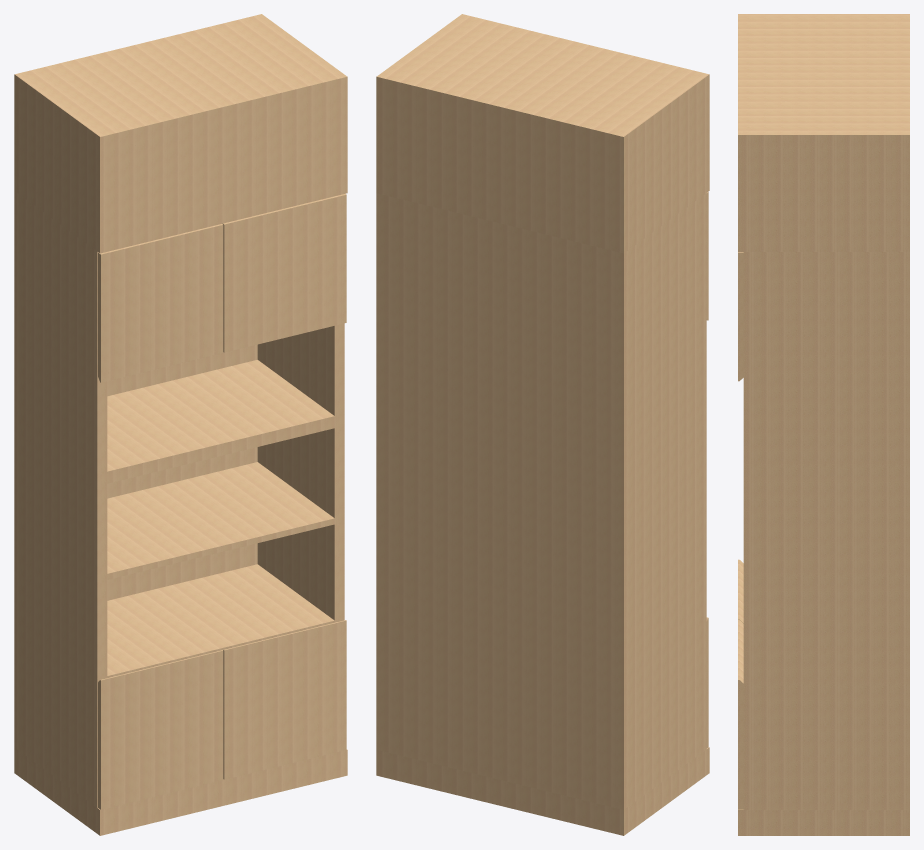
The picture shows the model from 3 angles, left to right: view 1: azimuth 30°, elevation 25°; view 2: azimuth 150°, elevation 25°; view 3: azimuth 270°, elevation 25°; orthographic projection.
Parts seen in each view (by area): view 1: Casework-Sunray_Cabinet_Carcass Cabinet_Carcass [1246009], Extrusion [1562260], CSW_Sunray_Cabinet_Door_Dbl_Top-Finger_Groove CSW_Sunray_Cab, CSW_Sunray_Cabinet_Door_Dbl_Bot-Finger_Groove Door_Dbl [1246, Extrusion [1246073], Extrusion [1246080], Extrusion [1246087], Casework-Sunray_Cabinet_Base Cabinet_Base [1245994]; view 2: Casework-Sunray_Cabinet_Carcass Cabinet_Carcass [1246009], Extrusion [1562260], Casework-Sunray_Cabinet_Base Cabinet_Base [1245994]; view 3: Casework-Sunray_Cabinet_Carcass Cabinet_Carcass [1246009], Extrusion [1562260], Casework-Sunray_Cabinet_Base Cabinet_Base [1245994], CSW_Sunray_Cabinet_Door_Dbl_Top-Finger_Groove CSW_Sunray_Cab, CSW_Sunray_Cabinet_Door_Dbl_Bot-Finger_Groove Door_Dbl [1246.
Part boxes in pixels (x1,y1,x2,y2): Casework-Sunray_Cabinet_Carcass Cabinet_Carcass [1246009]: (14, 191, 344, 807); Extrusion [1562260]: (14, 14, 347, 253); CSW_Sunray_Cabinet_Door_Dbl_Top-Finger_Groove CSW_Sunray_Cab: (98, 620, 346, 809); CSW_Sunray_Cabinet_Door_Dbl_Bot-Finger_Groove Door_Dbl [1246: (98, 193, 346, 382); Extrusion [1246073]: (107, 359, 334, 483); Extrusion [1246080]: (107, 462, 334, 579); Extrusion [1246087]: (107, 564, 334, 677); Casework-Sunray_Cabinet_Base Cabinet_Base [1245994]: (14, 747, 347, 835); Casework-Sunray_Cabinet_Carcass Cabinet_Carcass [1246009]: (376, 193, 706, 809); Extrusion [1562260]: (376, 14, 709, 253); Casework-Sunray_Cabinet_Base Cabinet_Base [1245994]: (376, 747, 709, 835); Casework-Sunray_Cabinet_Carcass Cabinet_Carcass [1246009]: (743, 252, 909, 809); Extrusion [1562260]: (738, 14, 909, 251); Casework-Sunray_Cabinet_Base Cabinet_Base [1245994]: (738, 809, 909, 835); CSW_Sunray_Cabinet_Door_Dbl_Top-Finger_Groove CSW_Sunray_Cab: (738, 559, 743, 809); CSW_Sunray_Cabinet_Door_Dbl_Bot-Finger_Groove Door_Dbl [1246: (738, 252, 743, 381).
Size of the model in its own units: 39.37 by 106 by 23.62.
Materials: 3 (2 with a texture image).
